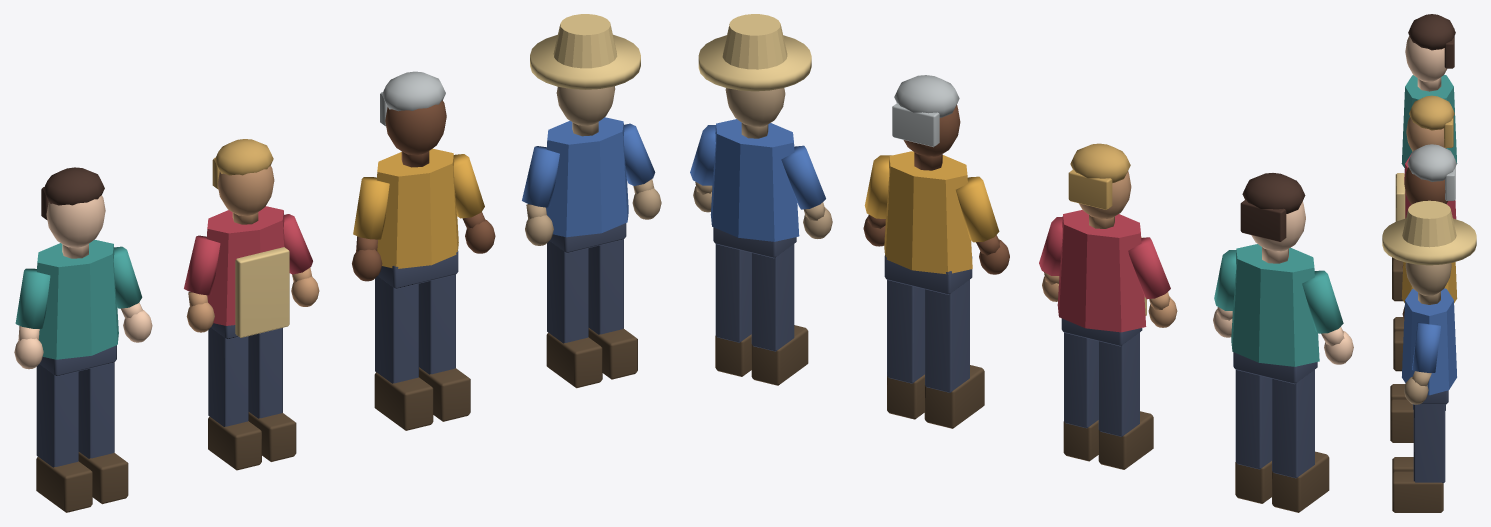
The model's file is villagers.glb.
3 renders of one model, left to right at view 1: azimuth 30°, elevation 25°; view 2: azimuth 150°, elevation 25°; view 3: azimuth 270°, elevation 25°, orthographic. The views are drawn at different scales.
Visible parts, largest first — view 1: Villager coloured torso.003, Villager coloured torso.002, Villager coloured torso, Villager coloured torso.001, Villager apron front, Villager trouser leg.004, Villager trouser leg, Villager trouser leg.006, Villager trouser leg.002, Villager trouser leg.005, Villager straw hat brim, Villager trouser leg.001 (+32 smaller); view 2: Villager coloured torso.003, Villager coloured torso.001, Villager coloured torso.002, Villager coloured torso, Villager trouser leg.004, Villager trouser leg.006, Villager trouser leg, Villager trouser leg.002, Villager trouser leg.005, Villager straw hat brim, Villager trouser leg.001, Villager trouser leg.007 (+32 smaller); view 3: Villager coloured torso.003, Villager trouser leg.007, Villager straw hat brim, Villager straw hat crown, Villager leather boot.007, Villager coloured torso, Villager hair cap.002, Villager hair cap, Villager head, Villager hair cap.001, Villager sleeve.007, Villager head.003 (+19 smaller).
Boxes of the visible parts, <box> form: Villager coloured torso.003: <box>546,117,628,237</box>; Villager coloured torso.002: <box>377,148,458,268</box>; Villager coloured torso: <box>37,239,118,359</box>; Villager coloured torso.001: <box>206,206,284,325</box>; Villager apron front: <box>235,247,289,337</box>; Villager trouser leg.004: <box>375,276,418,383</box>; Villager trouser leg: <box>36,364,78,467</box>; Villager trouser leg.006: <box>547,241,588,343</box>; Villager trouser leg.002: <box>208,327,248,426</box>; Villager trouser leg.005: <box>419,274,455,374</box>; Villager straw hat brim: <box>530,34,640,89</box>; Villager trouser leg.001: <box>78,362,114,458</box>; Villager coloured torso.003: <box>710,119,799,241</box>; Villager coloured torso.001: <box>1057,210,1146,332</box>; Villager coloured torso.002: <box>884,151,972,273</box>; Villager coloured torso: <box>1231,244,1319,366</box>; Villager trouser leg.004: <box>925,279,969,392</box>; Villager trouser leg.006: <box>751,244,794,351</box>; Villager trouser leg: <box>1272,369,1314,478</box>; Villager trouser leg.002: <box>1098,332,1139,436</box>; Villager trouser leg.005: <box>887,280,924,383</box>; Villager straw hat brim: <box>698,35,811,91</box>; Villager trouser leg.001: <box>1235,370,1271,469</box>; Villager trouser leg.007: <box>715,244,751,342</box>; Villager coloured torso.003: <box>1402,288,1456,395</box>; Villager trouser leg.007: <box>1413,404,1445,483</box>; Villager straw hat brim: <box>1382,218,1476,265</box>; Villager straw hat crown: <box>1402,200,1456,247</box>; Villager leather boot.007: <box>1392,471,1443,512</box>; Villager coloured torso: <box>1401,74,1457,168</box>; Villager hair cap.002: <box>1407,144,1456,181</box>; Villager hair cap: <box>1408,14,1455,50</box>; Villager head: <box>1405,36,1446,81</box>; Villager hair cap.001: <box>1409,95,1454,130</box>; Villager sleeve.007: <box>1412,322,1440,372</box>; Villager head.003: <box>1405,262,1451,295</box>.
Bounding box in the file's own units: 3.79 × 1.92 × 0.5643.
